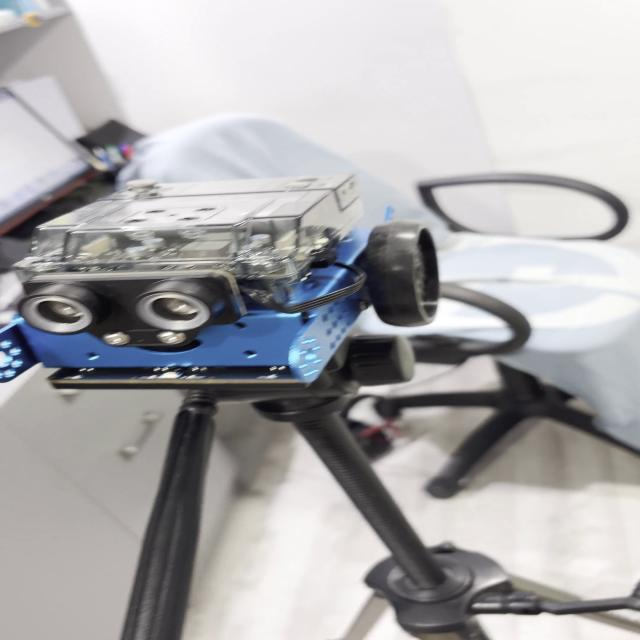mbot-detection: (0, 168, 452, 398)
